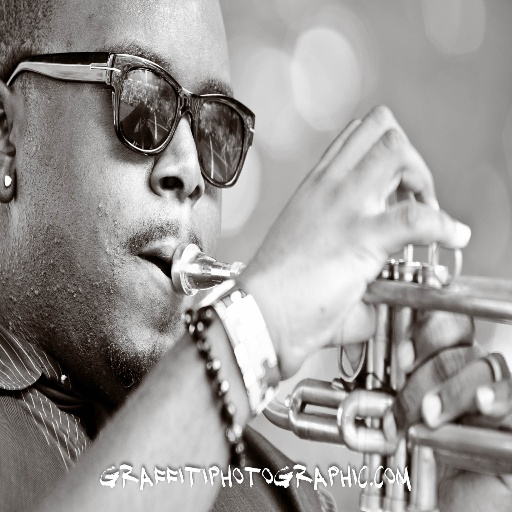hand: (224, 112, 470, 391), (344, 308, 511, 511)
